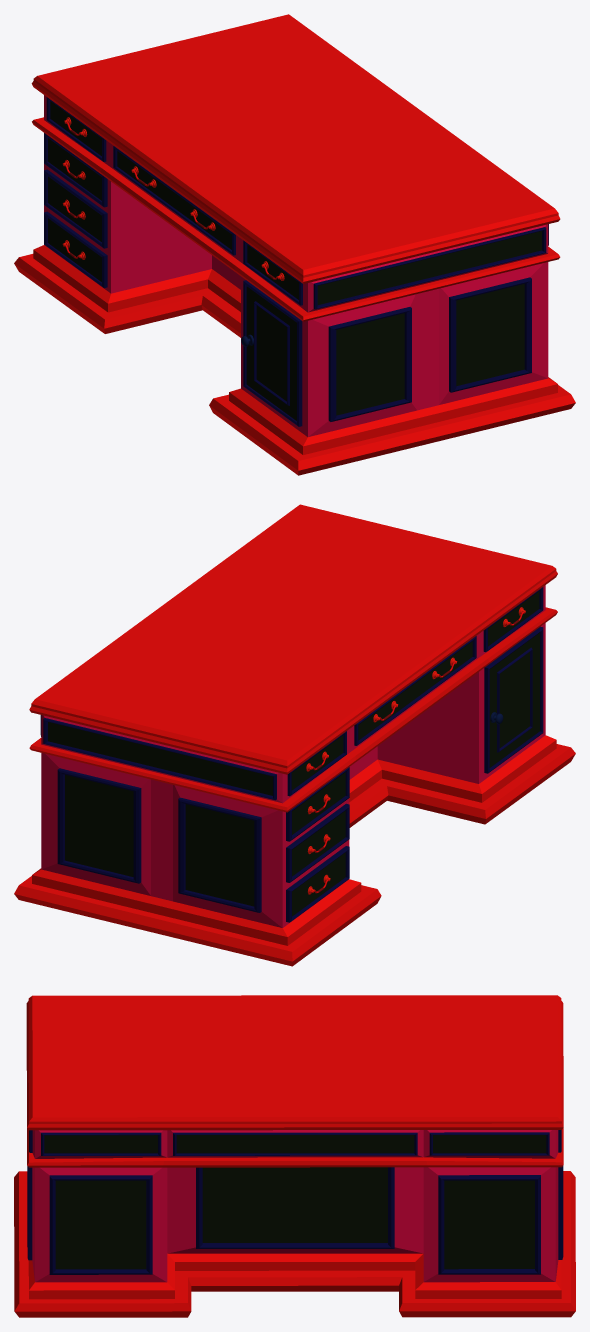
Rendered from Desk_FinalConfig.fbx.
3 views of the same model, one above another, from view 1: azimuth 30°, elevation 25°; view 2: azimuth 150°, elevation 25°; view 3: azimuth 270°, elevation 25° (orthographic).
Parts seen in each view (by area): view 1: Desk; view 2: Desk; view 3: Desk.
Part boxes in pixels (x1=…): Desk: x1=14, y1=14, x2=575, y2=475; Desk: x1=14, y1=504, x2=575, y2=966; Desk: x1=14, y1=995, x2=575, y2=1317.
Bounding box in the file's own units: 475 × 182 × 269.
